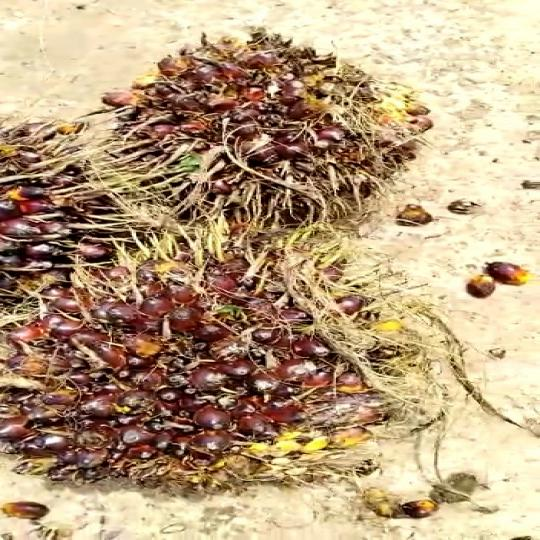masak: (0, 220, 457, 497), (99, 28, 474, 218)
